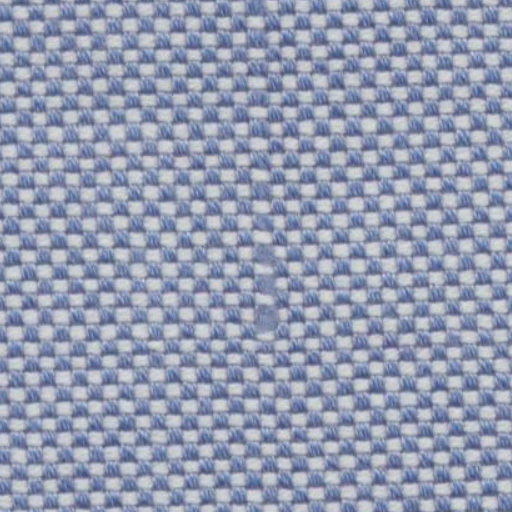TuoSha: (228, 15, 301, 315)
